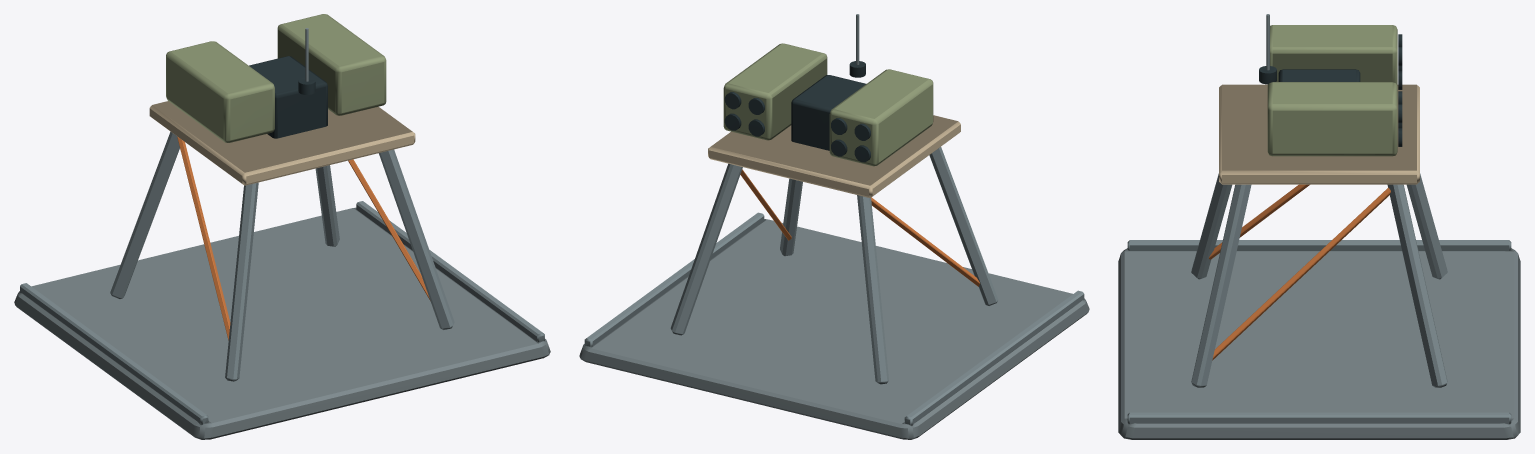
Rendered from WatchtowerAA.glb.
The picture shows the model from 3 angles, left to right: view 1: azimuth 30°, elevation 25°; view 2: azimuth 150°, elevation 25°; view 3: azimuth 270°, elevation 25°; orthographic projection. The views are drawn at different scales.
Parts seen in each view (by area): view 1: export_WatchtowerAA_GravelPad, export_WatchtowerAA_Mount; view 2: export_WatchtowerAA_GravelPad, export_WatchtowerAA_Mount; view 3: export_WatchtowerAA_GravelPad, export_WatchtowerAA_Mount.
Boxes of the visible parts, left/top/right/bottom form: export_WatchtowerAA_GravelPad: left=14, top=101, right=550, bottom=439; export_WatchtowerAA_Mount: left=166, top=14, right=386, bottom=142; export_WatchtowerAA_GravelPad: left=579, top=115, right=1089, bottom=439; export_WatchtowerAA_Mount: left=723, top=14, right=933, bottom=166; export_WatchtowerAA_GravelPad: left=1118, top=84, right=1520, bottom=439; export_WatchtowerAA_Mount: left=1259, top=14, right=1402, bottom=156.
Size of the model in its own units: 4.28 by 3.66 by 3.99.
